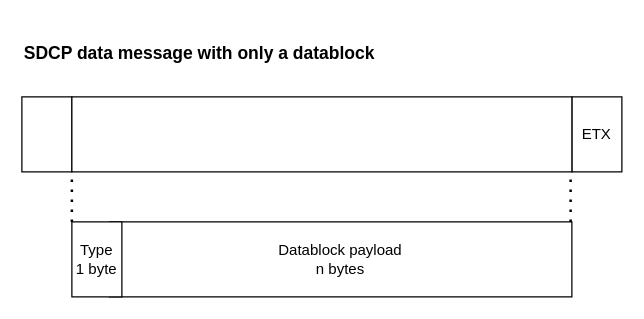
The diagram is 644 pixels wide and 319 high, and some of its shapes have lost their labels. Each missing label, with the centre of its shape:
"Datablock" belongs at point 321,134.
"STX" belongs at point 46,134.
